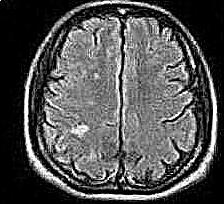Normal_Brain: (1, 1, 224, 204)
